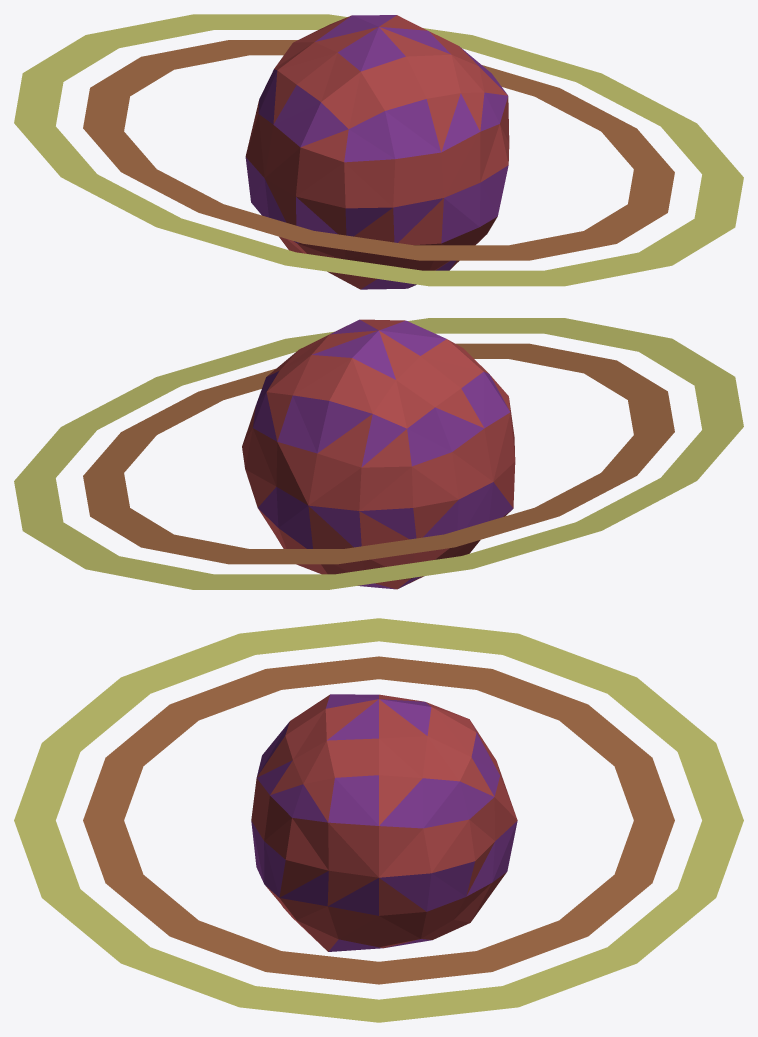
3 views of the same model, one above another, from view 1: azimuth 30°, elevation 25°; view 2: azimuth 150°, elevation 25°; view 3: azimuth 270°, elevation 25° (orthographic).
Visible parts, largest first — view 1: Lo_poly_Planet_02_by_Liz_Reddington_RING; view 2: Lo_poly_Planet_02_by_Liz_Reddington_RING; view 3: Lo_poly_Planet_02_by_Liz_Reddington_RING.
Part boxes in pixels (<box>): Lo_poly_Planet_02_by_Liz_Reddington_RING: <box>14,14,743,289</box>; Lo_poly_Planet_02_by_Liz_Reddington_RING: <box>14,318,743,589</box>; Lo_poly_Planet_02_by_Liz_Reddington_RING: <box>14,618,743,1022</box>.
Size of the model in its own units: 12.06 by 4.44 by 12.2.
